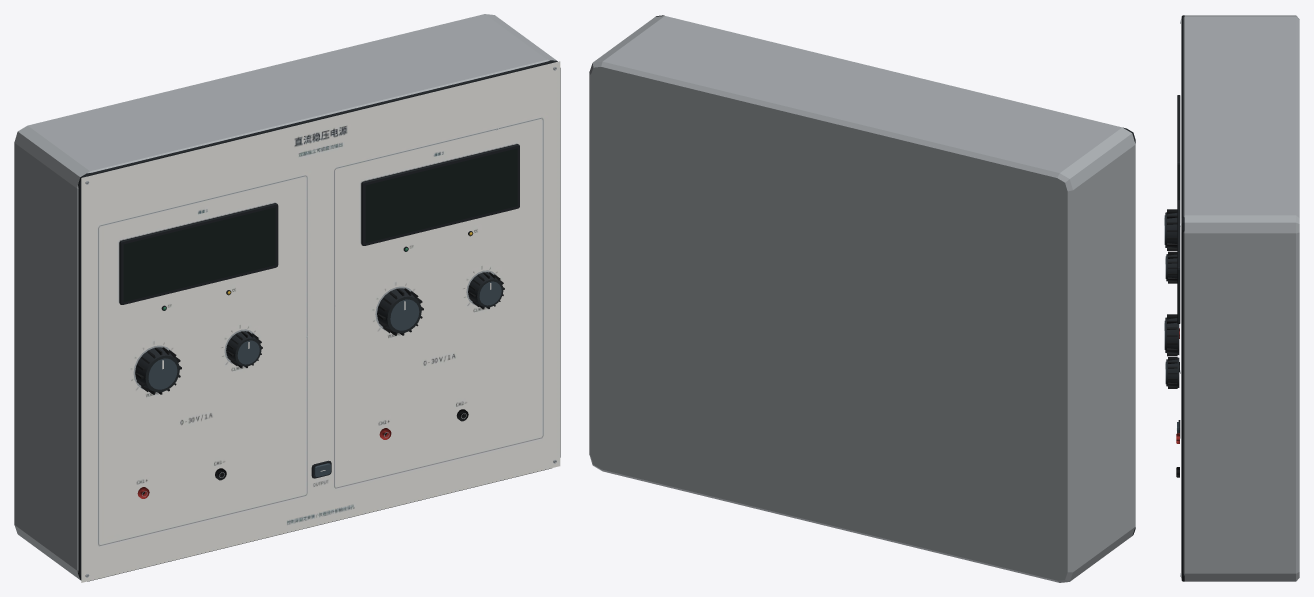
File: instrument.glb
The picture shows the model from 3 angles, left to right: view 1: azimuth 30°, elevation 25°; view 2: azimuth 150°, elevation 25°; view 3: azimuth 270°, elevation 25°; orthographic projection. The views are drawn at different scales.
Parts seen in each view (by area): view 1: PANEL_silkscreen, STATIC_paint, DISPLAY_CH1, DISPLAY_CH2, MOVING_CH1_V_paint, MOVING_CH2_V_paint, MOVING_CH2_I_paint, MOVING_CH1_I_paint, STATIC_metal; view 2: STATIC_paint; view 3: STATIC_paint, MOVING_CH2_V_paint, MOVING_CH1_V_paint, MOVING_CH2_I_paint, MOVING_CH1_I_paint.
Boxes of the visible parts, x1,y1,x2,y2 form: PANEL_silkscreen: [81, 61, 560, 582]; STATIC_paint: [14, 14, 560, 581]; DISPLAY_CH1: [123, 207, 275, 301]; DISPLAY_CH2: [365, 148, 517, 242]; MOVING_CH1_V_paint: [135, 347, 181, 394]; MOVING_CH2_V_paint: [377, 288, 423, 335]; MOVING_CH2_I_paint: [468, 272, 504, 309]; MOVING_CH1_I_paint: [226, 331, 262, 368]; STATIC_metal: [85, 67, 556, 577]; STATIC_paint: [589, 15, 1135, 582]; STATIC_paint: [1176, 15, 1299, 581]; MOVING_CH2_V_paint: [1164, 314, 1179, 356]; MOVING_CH1_V_paint: [1164, 209, 1177, 250]; MOVING_CH2_I_paint: [1165, 357, 1179, 388]; MOVING_CH1_I_paint: [1165, 251, 1177, 283].
Bounding box in the file's own units: 0.42 × 0.34 × 0.1143.
Materials: 14 (1 with a texture image).
